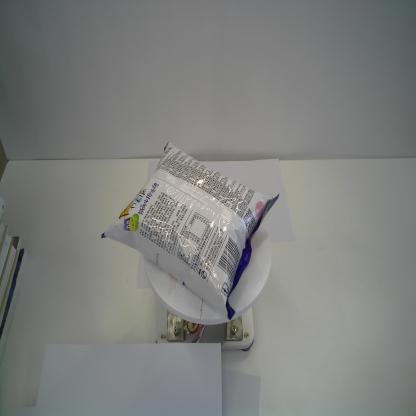Puffed Food: (100, 140, 282, 324)
